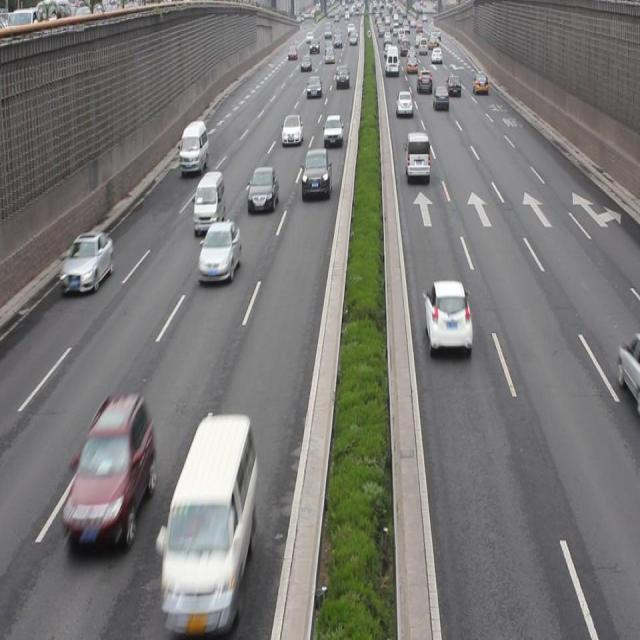car: (64, 394, 158, 542), (423, 283, 472, 359), (60, 233, 115, 297), (196, 220, 241, 280), (617, 335, 640, 405), (302, 149, 332, 197), (247, 168, 277, 212), (282, 112, 302, 144), (322, 114, 342, 142)
truck: (163, 410, 256, 628), (192, 173, 224, 231), (179, 124, 208, 176), (404, 130, 428, 180)
